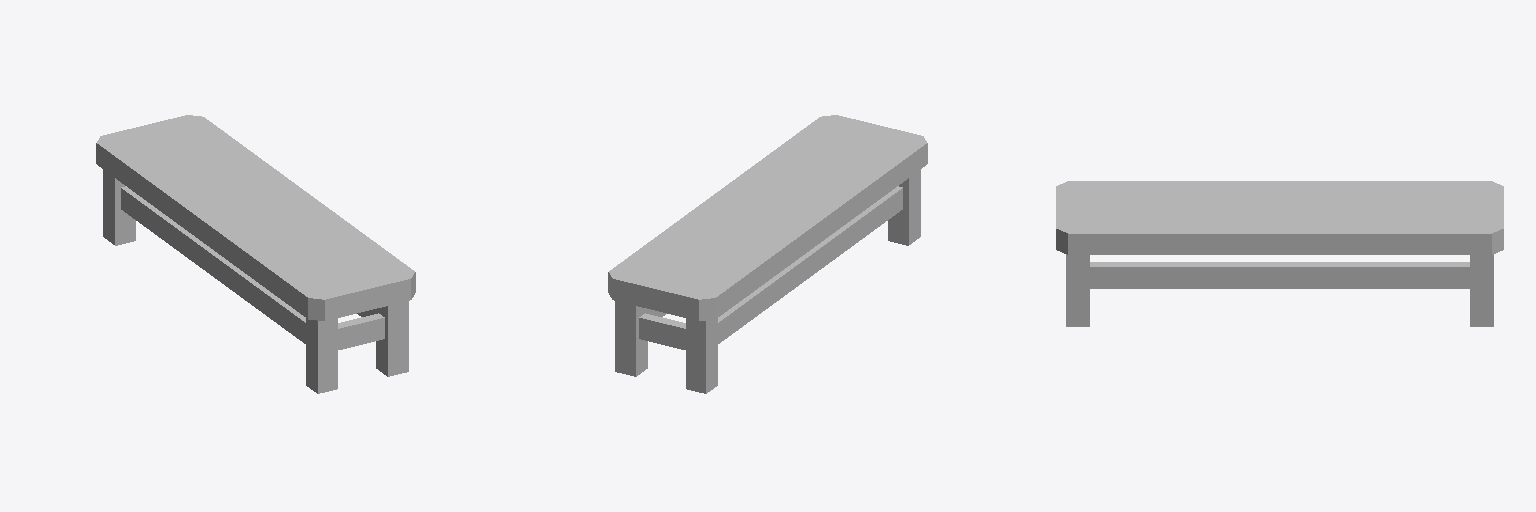
File: stall-bench.obj
The picture shows the model from 3 angles: view 1: azimuth 30°, elevation 25°; view 2: azimuth 150°, elevation 25°; view 3: azimuth 270°, elevation 25°; orthographic projection.
Visible parts, largest first — view 1: stall-bench; view 2: stall-bench; view 3: stall-bench.
Boxes of the visible parts, x1=… form: stall-bench: x1=96, y1=115, x2=415, y2=393; stall-bench: x1=608, y1=115, x2=927, y2=393; stall-bench: x1=1056, y1=181, x2=1503, y2=326.
Bounding box in the file's own units: 0.26 × 0.2255 × 0.94.